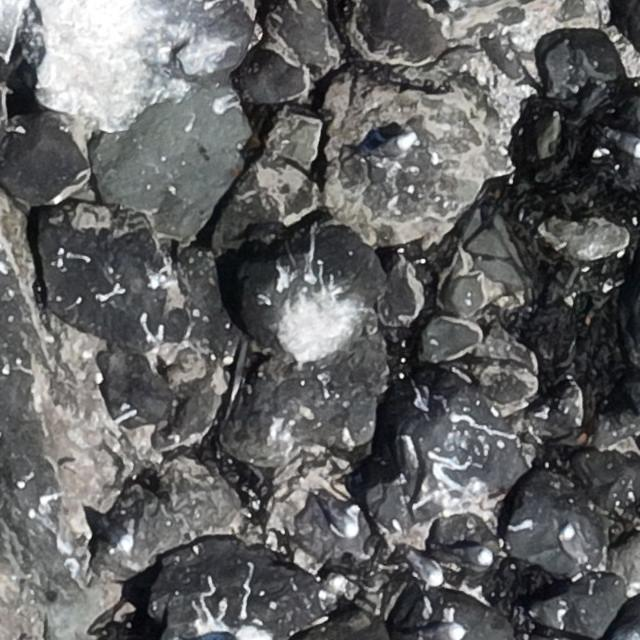umineko: (319, 490, 364, 540), (94, 513, 135, 554), (409, 550, 444, 588), (381, 132, 416, 156), (451, 546, 492, 566), (425, 620, 465, 638), (613, 131, 640, 155)
